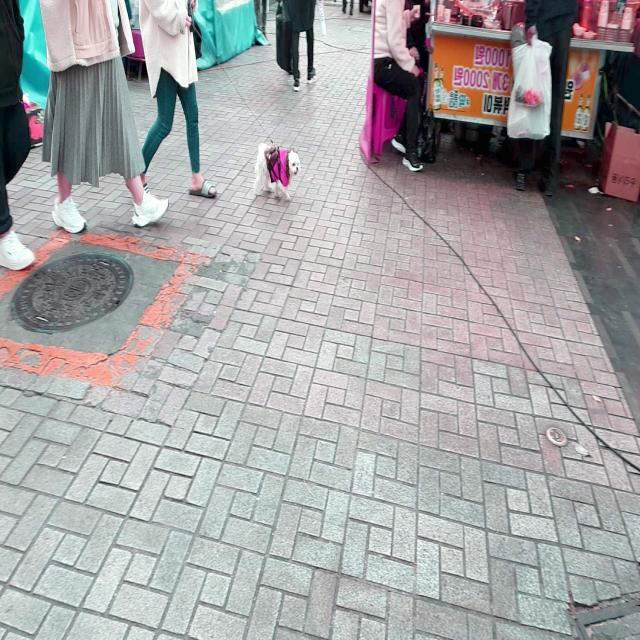Leashed_Dog: (177, 0, 300, 201)
